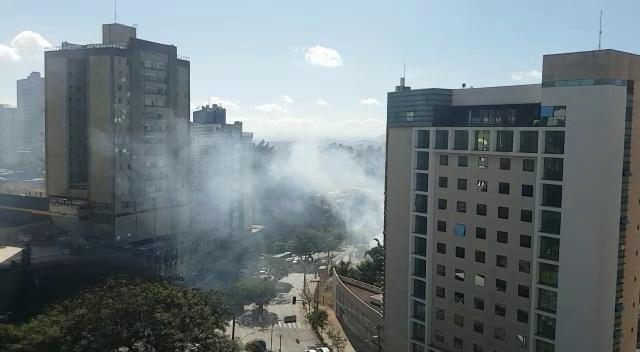smoke: (189, 147, 255, 228)
